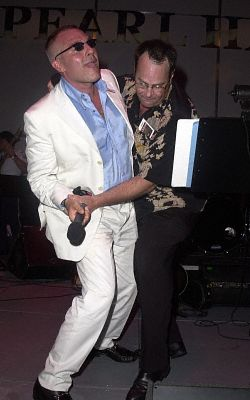37: (128, 52, 174, 112)
42: (54, 23, 103, 86)
Coat: (22, 66, 138, 264)
Glasses: (52, 35, 101, 63), (133, 69, 180, 95)
Male: (54, 23, 103, 86), (128, 52, 174, 112)
Pants: (34, 201, 137, 392), (133, 198, 198, 382)
Shirt: (110, 72, 205, 221), (53, 76, 137, 191)
Shoes: (87, 341, 137, 365), (123, 373, 165, 400), (29, 376, 75, 400), (161, 340, 195, 359)
